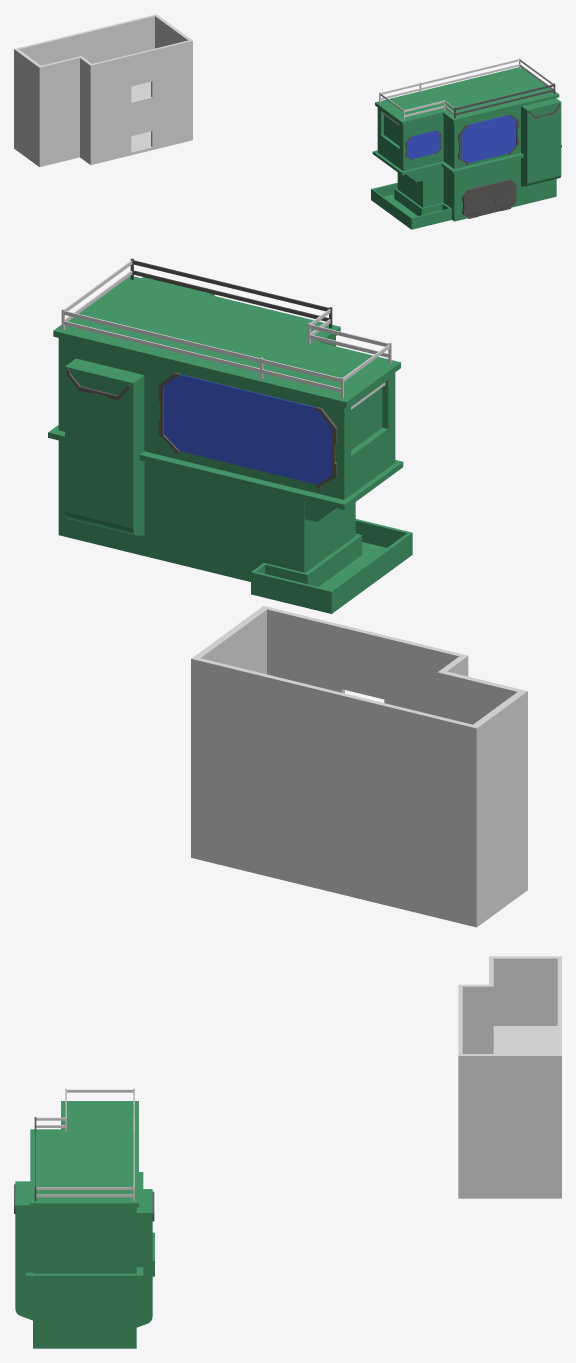
The model's file is Decentraland2.glb.
3 views of the same model, one above another, from view 1: azimuth 30°, elevation 25°; view 2: azimuth 150°, elevation 25°; view 3: azimuth 270°, elevation 25° (orthographic). The views are drawn at different scales.
Parts seen in each view (by area): view 1: Cube.001, Cube, Techo, Piso1, Piso 2, Cube.005, Cube.031, Cube.002, Piso 2.001, Cube.032, Cube.028, Cube.027 (+3 smaller); view 2: Cube.001, Cube, Techo, Piso1, Cube.035, Cube.036, Piso 2, Cube.002, Piso 2.001, Cube.017, Cube.016, Cube.014 (+1 smaller); view 3: Cube.001, Techo, Cube, Piso1, Piso 2, Cube.005, Cube.035, Piso 2.001.
Part boxes in pixels (x1,y1,x2,y2): Cube.001: (14,14,192,117); Cube: (14,90,192,167); Techo: (375,67,559,125); Piso1: (397,158,556,221); Piso 2: (377,106,520,171); Cube.005: (521,98,561,186); Cube.031: (461,115,516,162); Cube.002: (371,182,451,229); Piso 2.001: (372,145,561,175); Cube.032: (407,131,440,158); Cube.028: (469,179,509,216); Cube.027: (462,189,483,218); Cube.001: (191,605,527,827); Cube: (191,758,527,927); Techo: (53,276,400,407); Piso1: (58,440,355,581); Cube.035: (65,358,144,535); Cube.036: (164,374,331,484); Piso 2: (58,336,395,499); Cube.002: (251,519,412,613); Piso 2.001: (48,425,403,509); Cube.017: (64,310,340,382); Cube.016: (64,321,340,392); Cube.014: (133,260,328,311); Cube.001: (458,956,561,1127); Techo: (30,1101,138,1207); Cube: (458,1127,561,1198); Piso1: (33,1279,136,1348); Piso 2: (33,1207,136,1273); Cube.005: (15,1181,32,1320); Cube.035: (136,1189,152,1327); Piso 2.001: (26,1172,143,1279).
Bounding box in the file's own units: 68.17 × 20.32 × 62.71.
